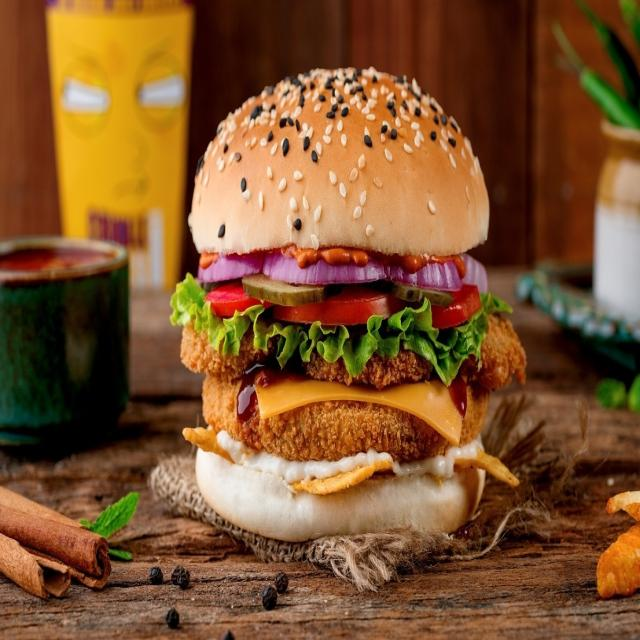burger: (168, 61, 538, 536)
